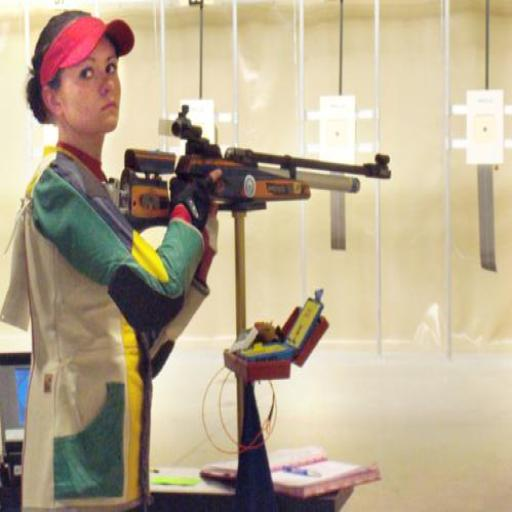shooting: (0, 8, 226, 511)
